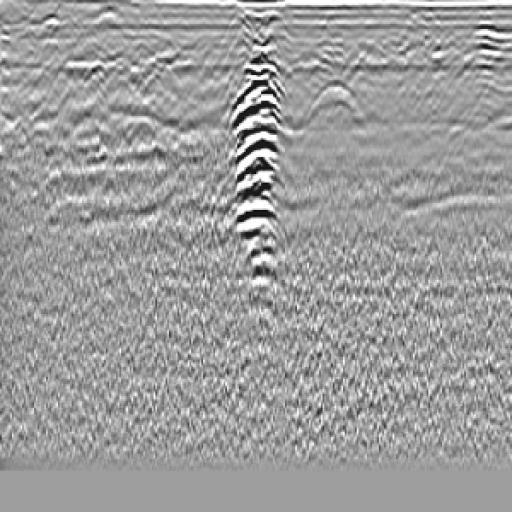metalic: (224, 29, 291, 305)
nonmetalic: (302, 75, 377, 152)
